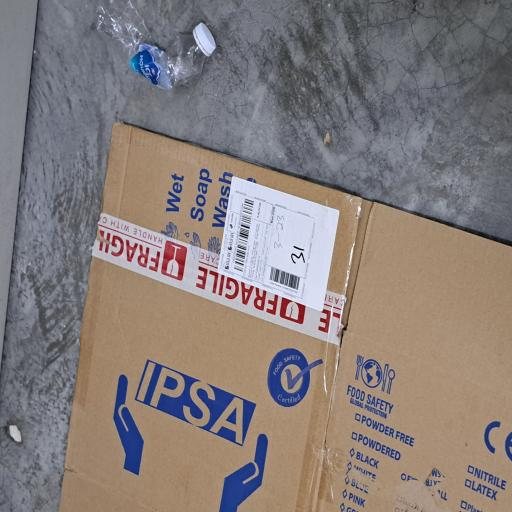cardboard: (0, 75, 292, 512)
plastic bottle: (316, 127, 384, 272)
plastic bottle cap: (342, 260, 368, 288)
